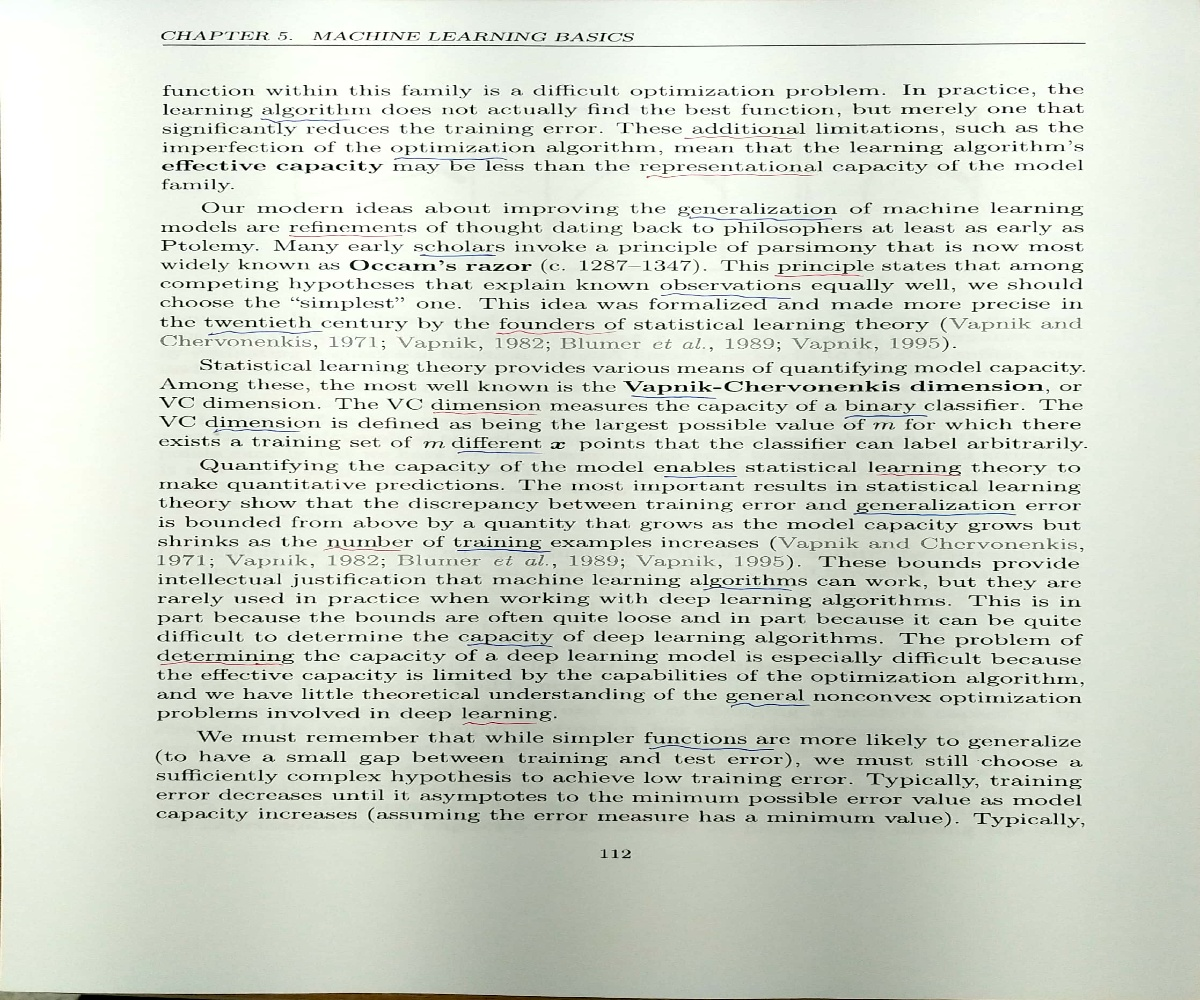underline: (687, 213, 835, 225), (646, 741, 773, 753), (853, 509, 1019, 517), (429, 408, 542, 419), (659, 290, 790, 299), (641, 171, 815, 177), (157, 659, 287, 667), (494, 329, 619, 337), (453, 545, 552, 555), (206, 328, 323, 336), (259, 115, 355, 124), (729, 700, 812, 710), (288, 231, 404, 238), (774, 270, 863, 279), (392, 155, 506, 162), (683, 134, 797, 141), (629, 391, 717, 400), (455, 448, 543, 457), (662, 472, 740, 482), (844, 411, 927, 420), (699, 585, 792, 593), (868, 470, 957, 478), (324, 545, 402, 554), (462, 719, 536, 728), (210, 426, 303, 433), (462, 641, 554, 648), (417, 252, 498, 259)
